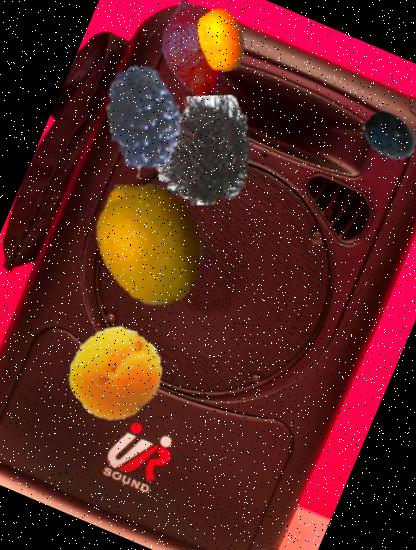Blueberry: (353, 101, 416, 173)
Kumquats: (178, 0, 262, 82)
Lemon: (63, 155, 236, 328)
Mulberry: (76, 40, 231, 194)
Peach: (54, 312, 176, 435)
Rambutan: (129, 79, 272, 222)
Salak: (119, 0, 268, 124)
